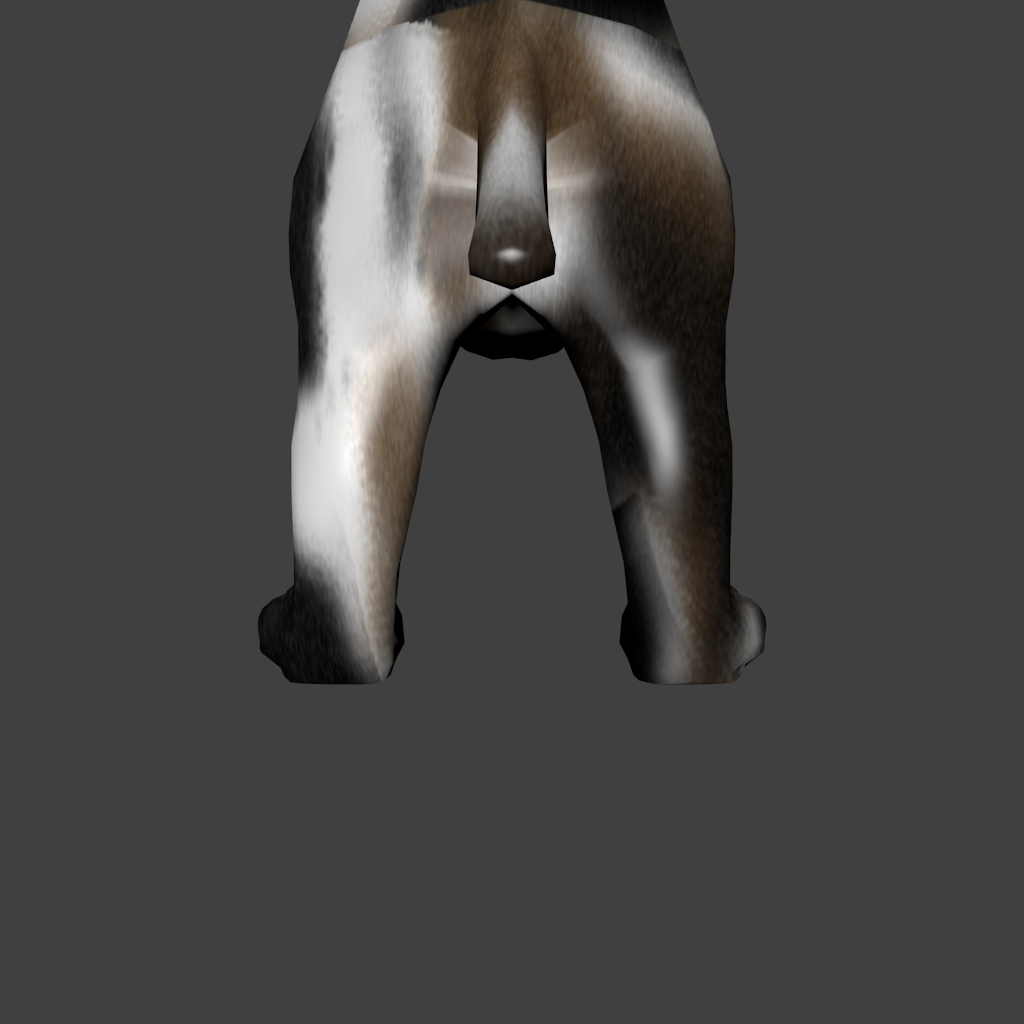Dog: (258, 0, 509, 685)
